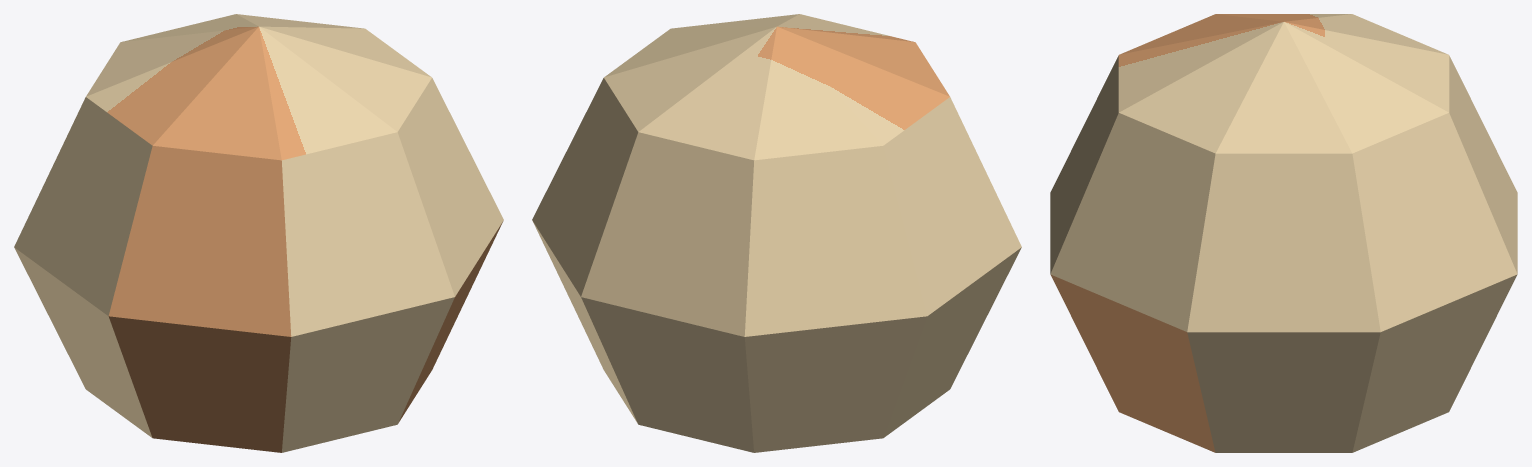
Rendered from PlayBall.gltf.
3 renders of one model, left to right at view 1: azimuth 30°, elevation 25°; view 2: azimuth 150°, elevation 25°; view 3: azimuth 270°, elevation 25°, orthographic. The views are drawn at different scales.
Visible parts, largest first — view 1: sphere; view 2: sphere; view 3: sphere.
Part boxes in pixels (x1,y1,x2,y2): sphere: (14,14,503,452); sphere: (532,14,1021,452); sphere: (1050,14,1517,452).
Size of the model in its own units: 0.125 by 0.125 by 0.125.
Materials: 1 (1 with a texture image).
